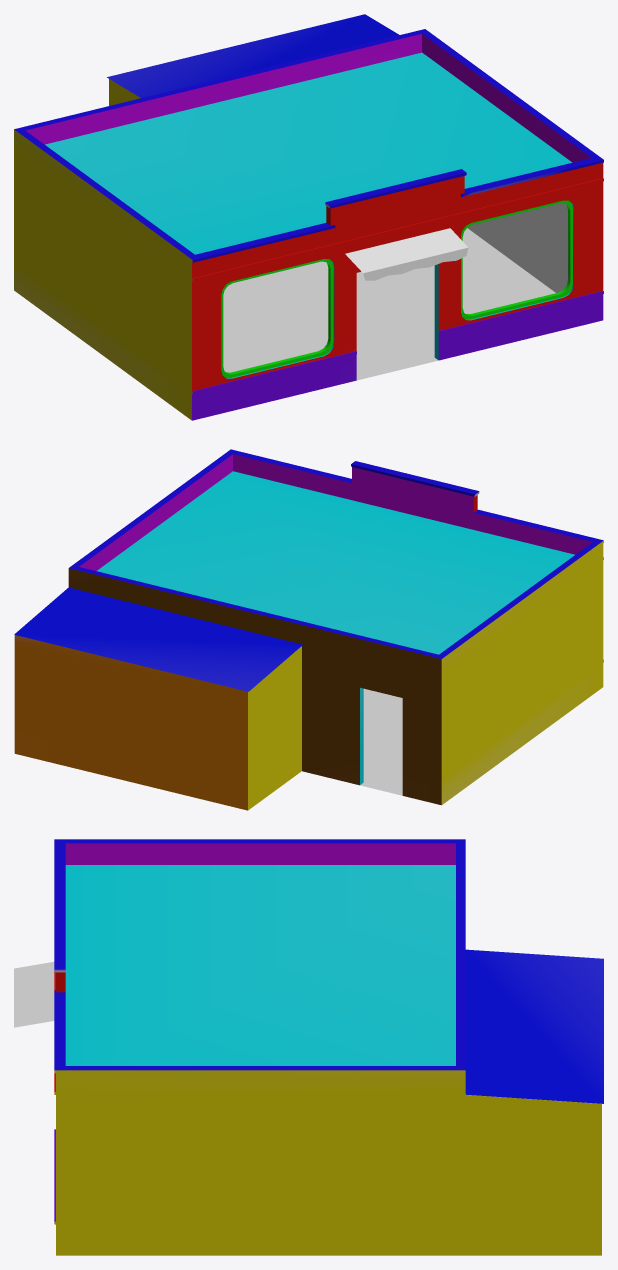
File: Shop2.fbx
3 views of the same model, one above another, from view 1: azimuth 30°, elevation 25°; view 2: azimuth 150°, elevation 25°; view 3: azimuth 270°, elevation 25° (orthographic). The views are drawn at different scales.
Visible parts, largest first — view 1: Shop_3_plafond, Shop_3_structure, Shop_3_top, Shop_3_sol, Shop_3_front_white, Shop_3_line, Shop_3_interior, Shop_3_window, Shop_3_devanture1, Shop_3_devanture2; view 2: Shop_3_structure, Shop_3_plafond, Shop_3_top, Shop_3_line, Shop_3_sol; view 3: Shop_3_plafond, Shop_3_structure, Shop_3_top, Shop_3_line, Shop_3_devanture1, Shop_3_devanture2.
Part boxes in pixels (left/top/right/bottom): Shop_3_plafond: left=45, top=14, right=571, bottom=254; Shop_3_structure: left=14, top=79, right=603, bottom=420; Shop_3_top: left=14, top=34, right=603, bottom=280; Shop_3_sol: left=223, top=228, right=555, bottom=380; Shop_3_front_white: left=192, top=291, right=603, bottom=420; Shop_3_line: left=14, top=29, right=603, bottom=281; Shop_3_interior: left=467, top=203, right=567, bottom=292; Shop_3_window: left=221, top=200, right=572, bottom=377; Shop_3_devanture1: left=357, top=228, right=468, bottom=280; Shop_3_devanture2: left=345, top=231, right=456, bottom=280; Shop_3_structure: left=14, top=561, right=603, bottom=810; Shop_3_plafond: left=14, top=471, right=574, bottom=691; Shop_3_top: left=68, top=454, right=603, bottom=678; Shop_3_line: left=69, top=449, right=603, bottom=658; Shop_3_sol: left=360, top=688, right=402, bottom=795; Shop_3_plafond: left=65, top=865, right=603, bottom=1103; Shop_3_structure: left=56, top=1095, right=601, bottom=1255; Shop_3_top: left=54, top=843, right=465, bottom=1094; Shop_3_line: left=54, top=839, right=465, bottom=1094; Shop_3_devanture1: left=14, top=968, right=54, bottom=1027; Shop_3_devanture2: left=14, top=962, right=54, bottom=1020.
Size of the model in its own units: 800 by 338 by 864.
